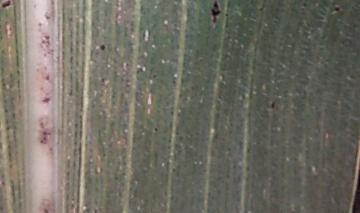tarspot: (208, 1, 223, 28), (330, 4, 345, 17), (1, 1, 15, 12), (97, 41, 107, 54), (268, 99, 278, 112), (98, 77, 108, 86), (152, 125, 161, 135)
